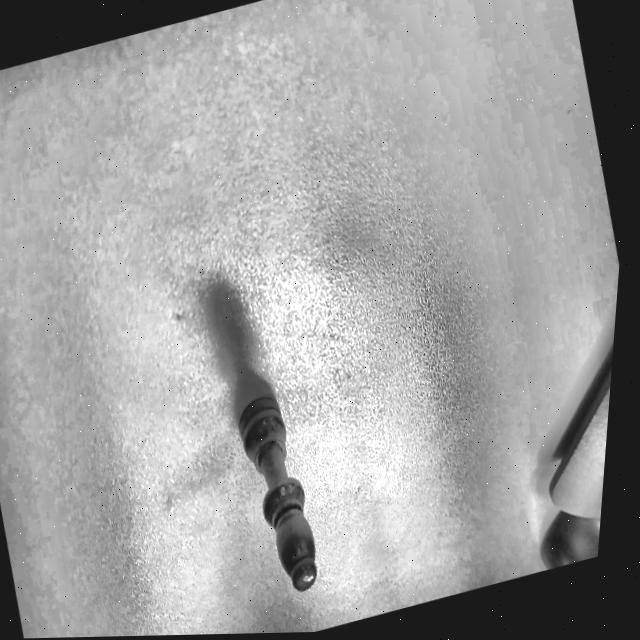black-bishop: (197, 356, 356, 611)
